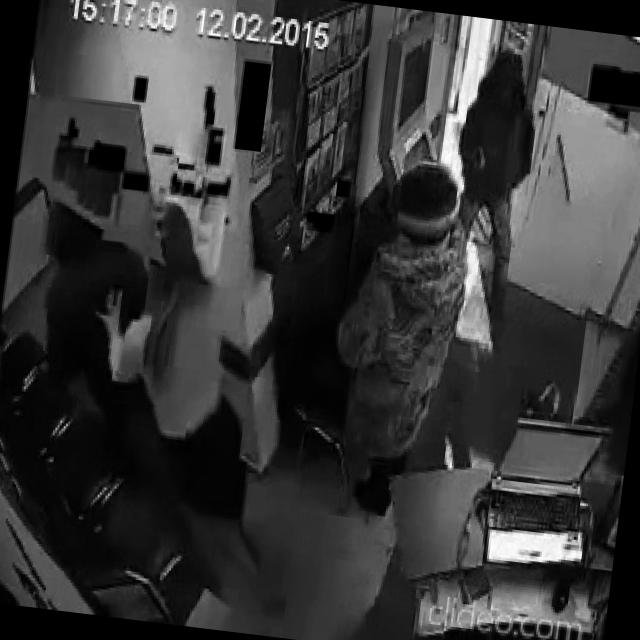gun: (474, 146, 486, 170)
person: (58, 194, 332, 614), (313, 150, 482, 526), (14, 190, 196, 480)
person with a gun: (438, 44, 546, 330)
